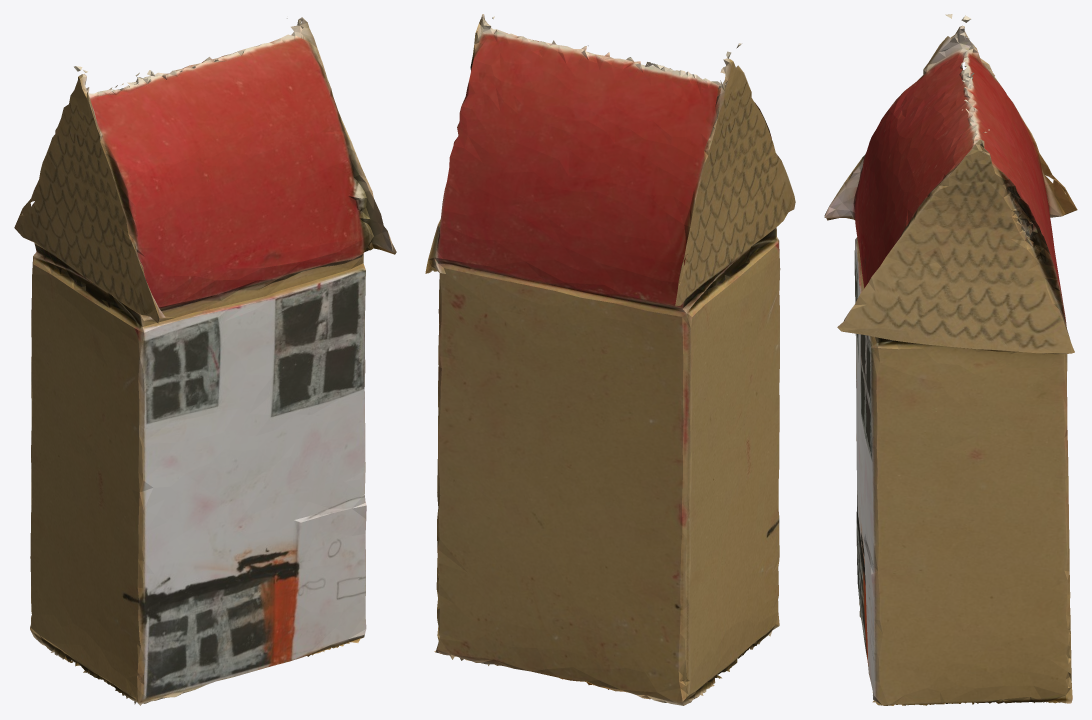
3 views of the same model, side by side, from view 1: azimuth 30°, elevation 25°; view 2: azimuth 150°, elevation 25°; view 3: azimuth 270°, elevation 25° (orthographic). The views are drawn at different scales.
Parts seen in each view (by area): view 1: Object_0; view 2: Object_0; view 3: Object_0.
Part boxes in pixels (x1,y1,x2,y2): Object_0: [14, 17, 396, 705]; Object_0: [425, 14, 795, 705]; Object_0: [824, 14, 1077, 705].
Size of the model in its own units: 11.69 by 26.35 by 10.31.
Materials: 1 (1 with a texture image).
